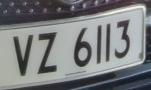1: (97, 20, 110, 69), (102, 19, 115, 67)
3: (114, 16, 133, 64)
6: (71, 25, 95, 72)
V: (10, 31, 37, 80)
Z: (34, 29, 60, 77)
